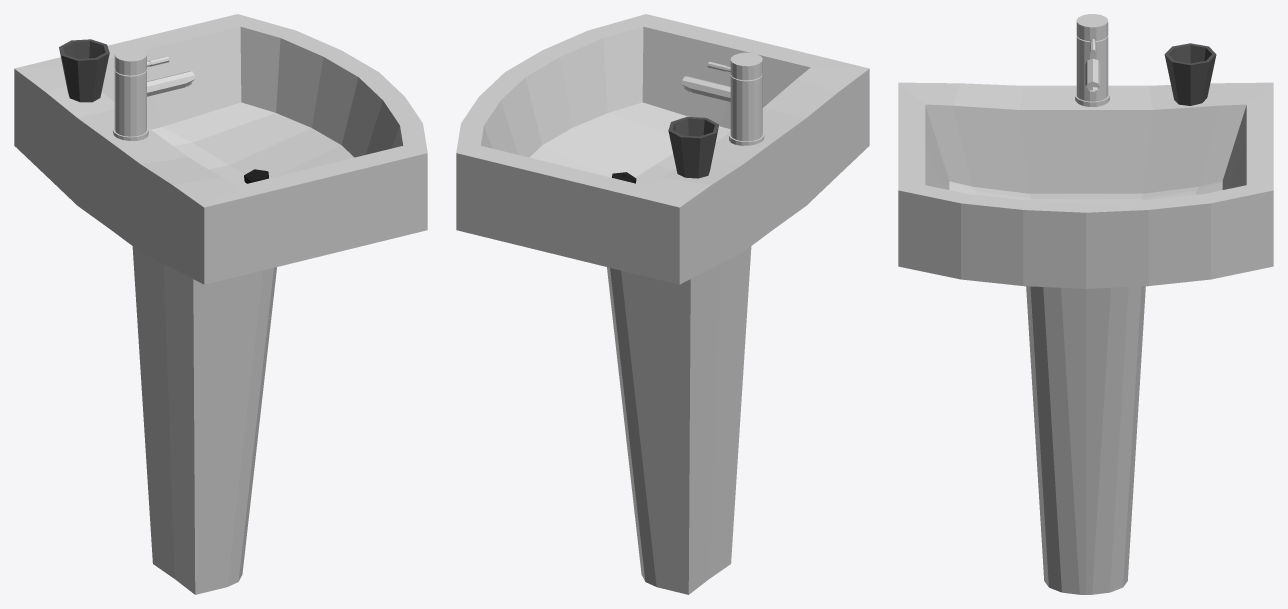
Rendered from Lavabo.fbx.
3 views of the same model, side by side, from view 1: azimuth 30°, elevation 25°; view 2: azimuth 150°, elevation 25°; view 3: azimuth 270°, elevation 25° (orthographic).
Parts seen in each view (by area): view 1: Sink, sinktap, Cylinder.006, Cylinder.003; view 2: Sink, sinktap, Cylinder.006, Cylinder.003; view 3: Sink, Cylinder.006, sinktap.
Part boxes in pixels (left/top/right/bottom): Sink: left=14, top=14, right=427, bottom=594; sinktap: left=113, top=48, right=148, bottom=140; Cylinder.006: left=59, top=39, right=109, bottom=102; Cylinder.003: left=147, top=71, right=195, bottom=96; Sink: left=456, top=14, right=869, bottom=594; sinktap: left=729, top=52, right=764, bottom=145; Cylinder.006: left=668, top=117, right=718, bottom=178; Cylinder.003: left=681, top=76, right=730, bottom=101; Sink: left=898, top=82, right=1273, bottom=594; Cylinder.006: left=1164, top=43, right=1216, bottom=105; sinktap: left=1075, top=14, right=1109, bottom=106.
Bounding box in the file's own units: 47.89 × 39.27 × 74.
